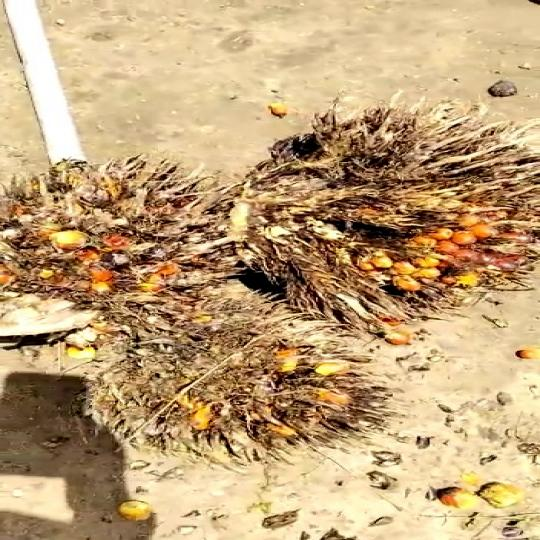terlalu masak: (193, 106, 540, 329), (90, 302, 374, 457), (0, 156, 251, 312)
